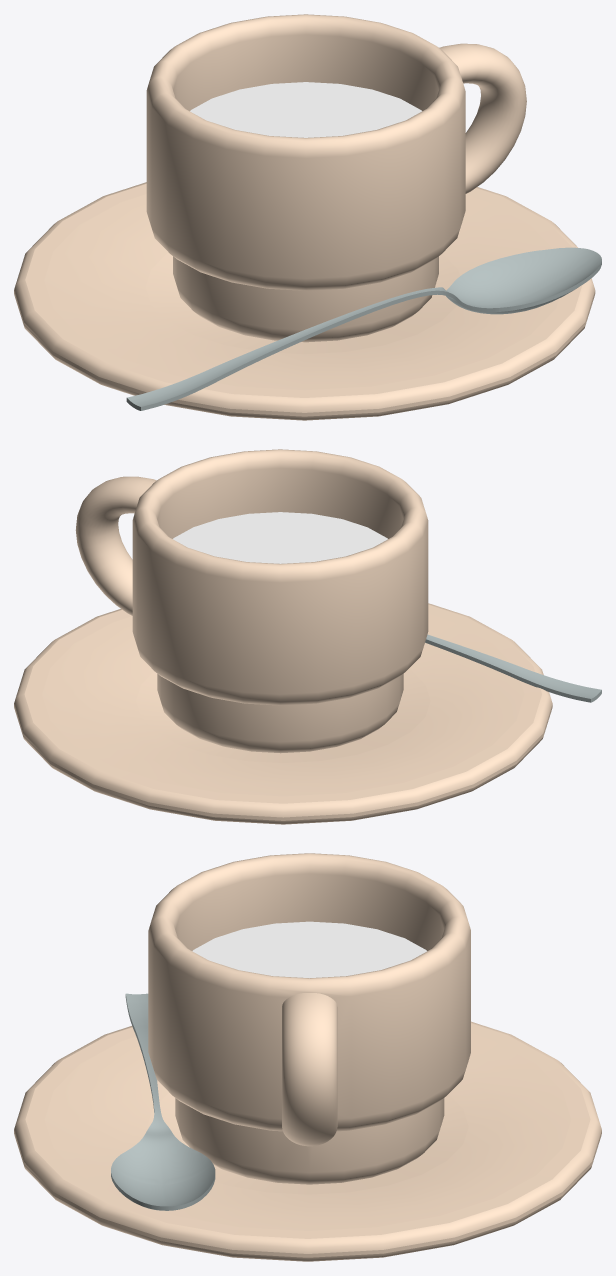
Rendered from Coffee cup.FBX.
The picture shows the model from 3 angles, top to bottom: view 1: azimuth 30°, elevation 25°; view 2: azimuth 150°, elevation 25°; view 3: azimuth 270°, elevation 25°; orthographic projection. The views are drawn at different scales.
Parts seen in each view (by area): view 1: caffe_001, Group#1_001, Group_001; view 2: caffe_001, Group#1_001, Group_001; view 3: caffe_001, Group#1_001, Group_001.
Part boxes in pixels (bbox=[...]): caffe_001: bbox=[146, 14, 526, 342]; Group#1_001: bbox=[14, 182, 595, 420]; Group_001: bbox=[126, 247, 601, 410]; caffe_001: bbox=[75, 449, 428, 753]; Group#1_001: bbox=[14, 603, 552, 824]; Group_001: bbox=[425, 634, 601, 702]; caffe_001: bbox=[148, 853, 470, 1184]; Group#1_001: bbox=[14, 1021, 601, 1261]; Group_001: bbox=[111, 993, 215, 1210].
Bounding box in the file's own units: 110 × 54.08 × 109.
